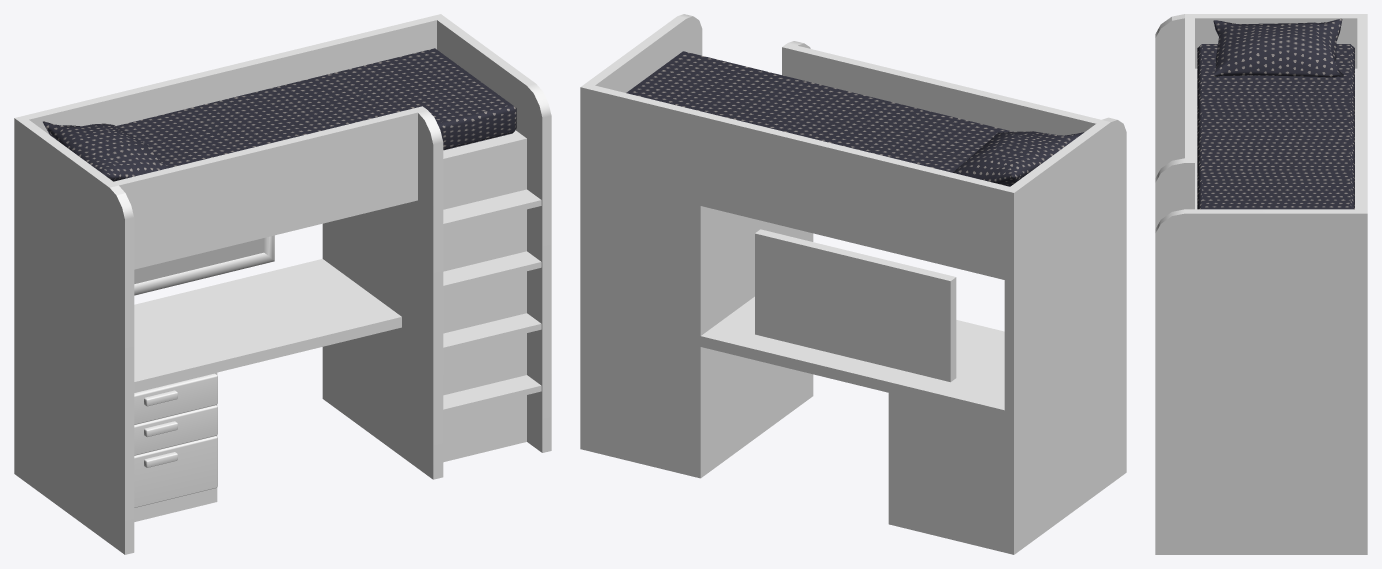
The model's file is bed_014.fbx.
3 renders of one model, left to right at view 1: azimuth 30°, elevation 25°; view 2: azimuth 150°, elevation 25°; view 3: azimuth 270°, elevation 25°, orthographic. The views are drawn at different scales.
Parts seen in each view (by area): view 1: bed_014; view 2: bed_014; view 3: bed_014.
Part boxes in pixels (bbox=[...]): bed_014: bbox=[14, 14, 551, 554]; bed_014: bbox=[580, 14, 1126, 554]; bed_014: bbox=[1155, 14, 1367, 554].
Bounding box in the file's own units: 301 × 135 × 242.
